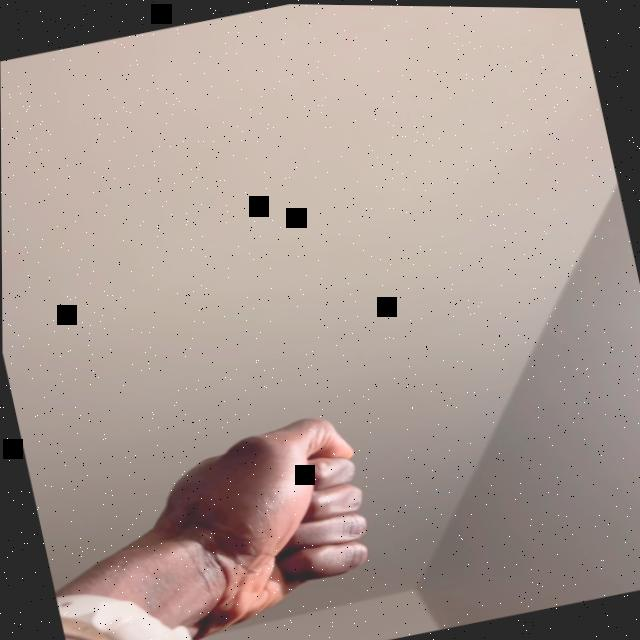Rock: (128, 402, 390, 640)
